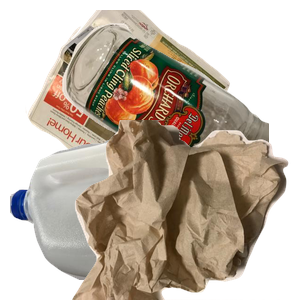glass: (60, 21, 300, 201)
paper: (23, 10, 245, 190)
plastic: (10, 120, 250, 300)
trash: (70, 120, 300, 300)
